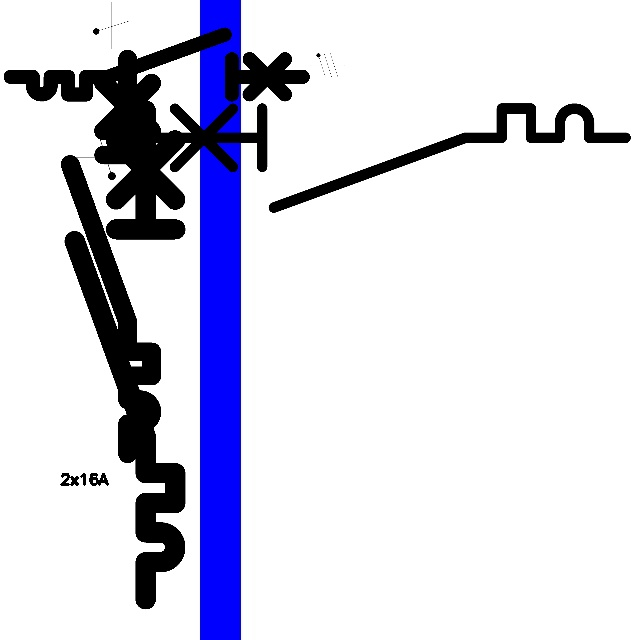interruptor_termomagnetico: (62, 98, 188, 612), (133, 96, 638, 219), (60, 49, 162, 464), (3, 27, 310, 102)
